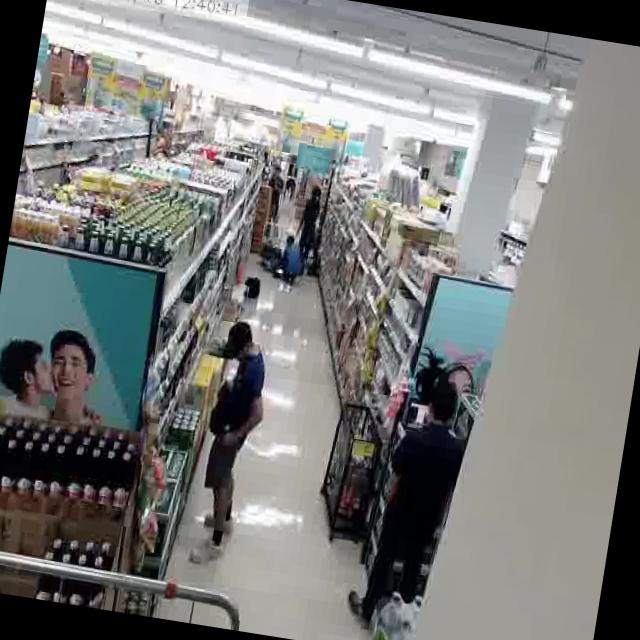shoplifting: (168, 302, 287, 588)
